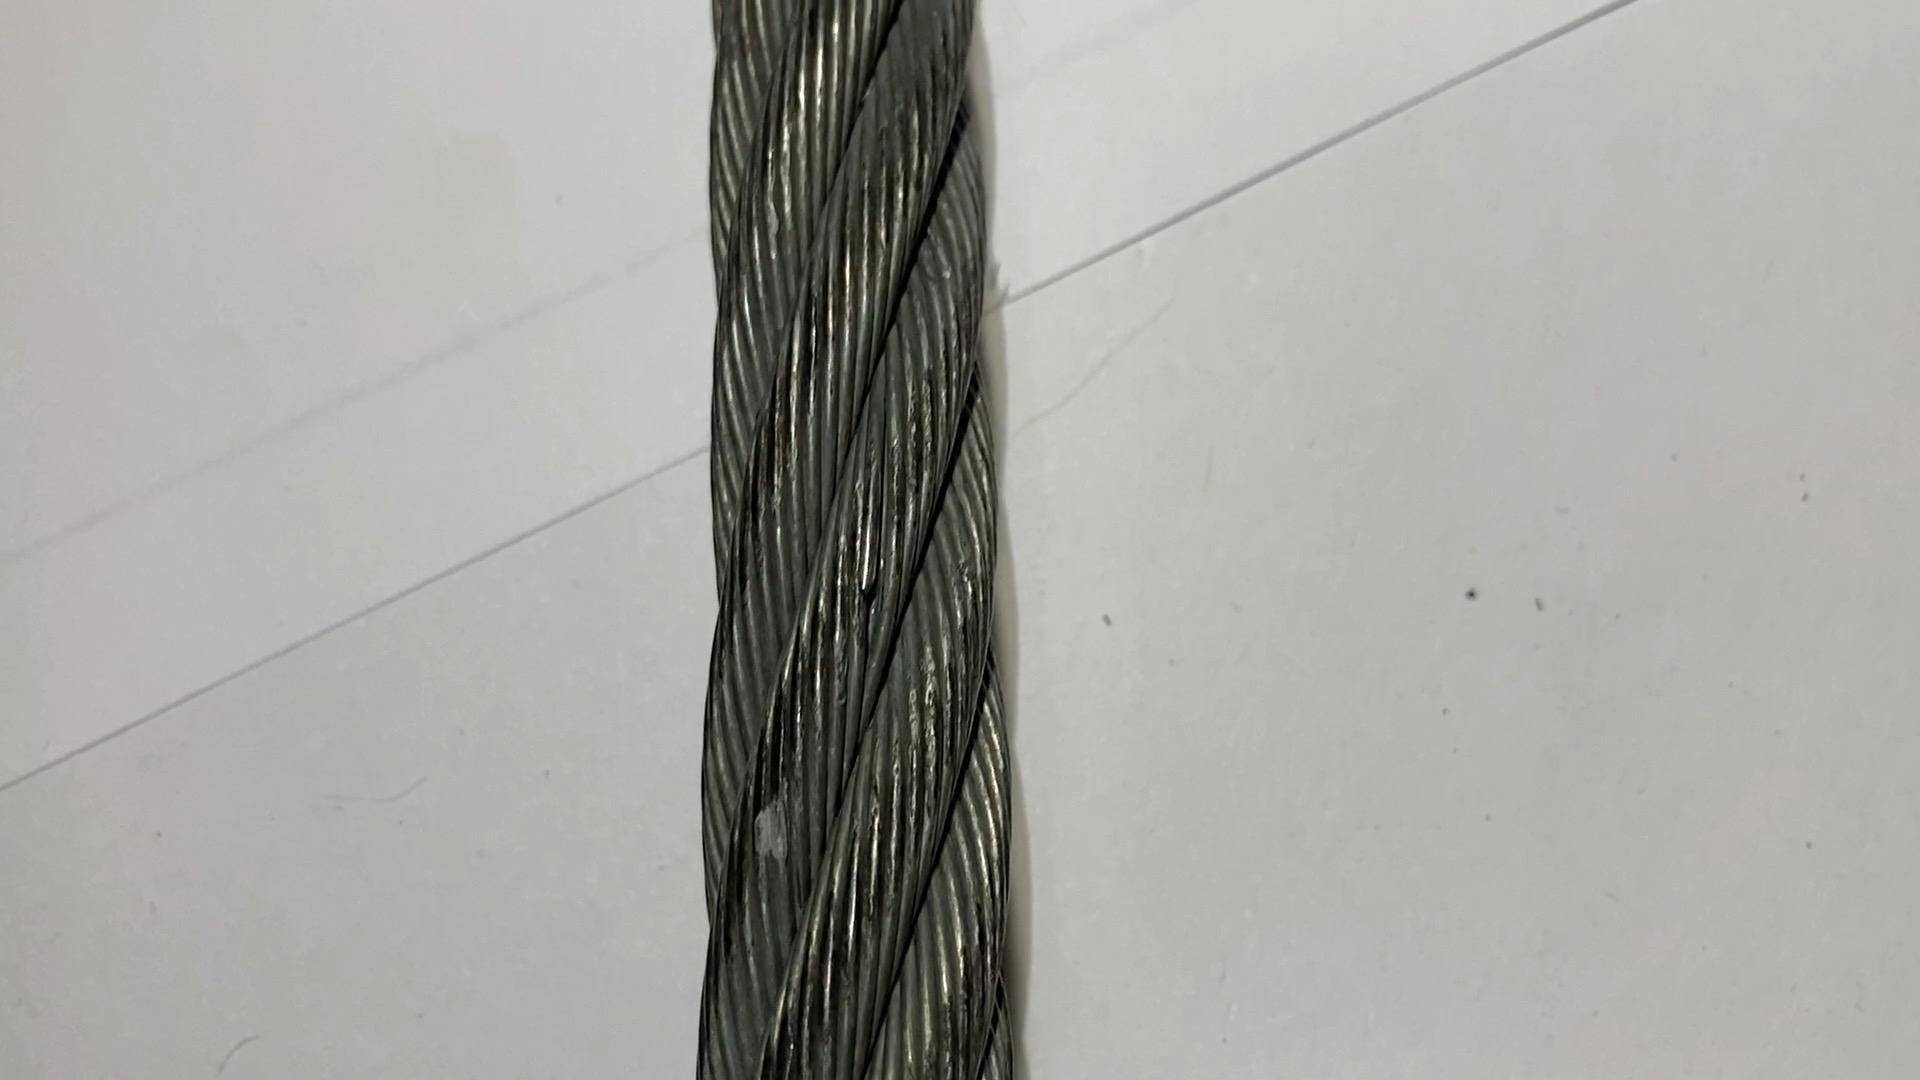break: (841, 537, 894, 604)
